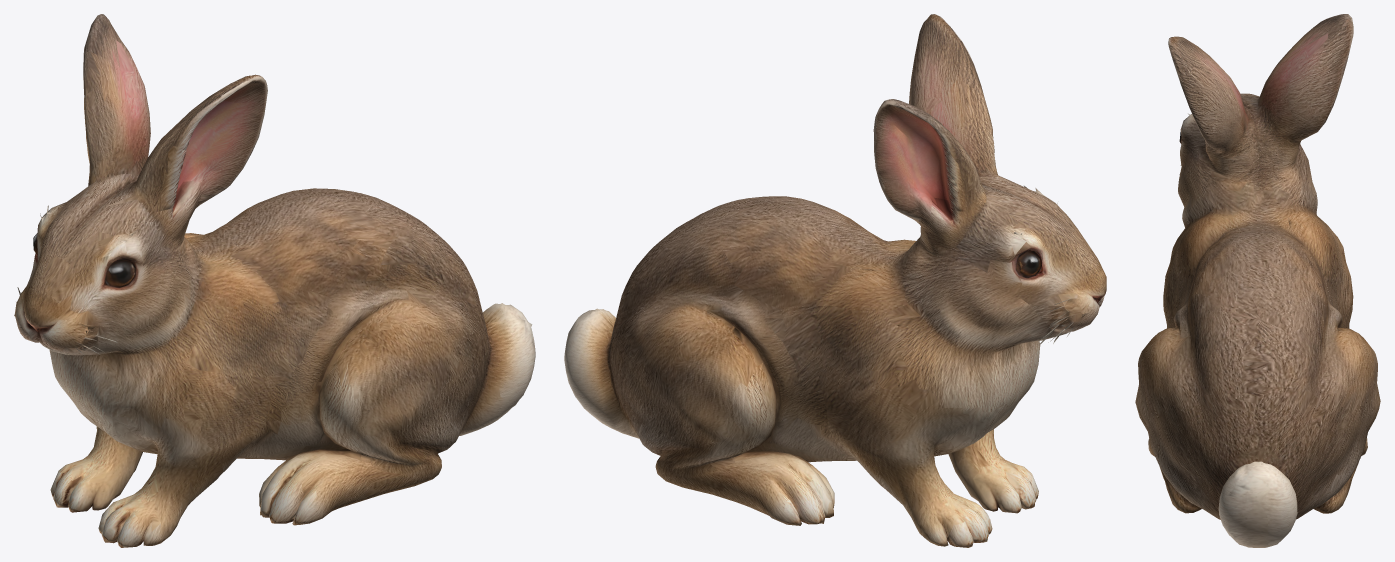
File: tho_game.glb
The picture shows the model from 3 angles, left to right: view 1: azimuth 30°, elevation 25°; view 2: azimuth 150°, elevation 25°; view 3: azimuth 270°, elevation 25°; orthographic projection. The views are drawn at different scales.
Visible parts, largest first — view 1: tripo_node_eed71b0b-0520-4332-abd1-0c9d7d4c3864; view 2: tripo_node_eed71b0b-0520-4332-abd1-0c9d7d4c3864; view 3: tripo_node_eed71b0b-0520-4332-abd1-0c9d7d4c3864.
Boxes of the visible parts, left/top/right/bottom form: tripo_node_eed71b0b-0520-4332-abd1-0c9d7d4c3864: left=14, top=14, right=535, bottom=547; tripo_node_eed71b0b-0520-4332-abd1-0c9d7d4c3864: left=564, top=14, right=1106, bottom=547; tripo_node_eed71b0b-0520-4332-abd1-0c9d7d4c3864: left=1135, top=14, right=1380, bottom=547.
Bounding box in the file's own units: 0.9801 × 0.8149 × 0.4547.
Materials: 1 (1 with a texture image).
